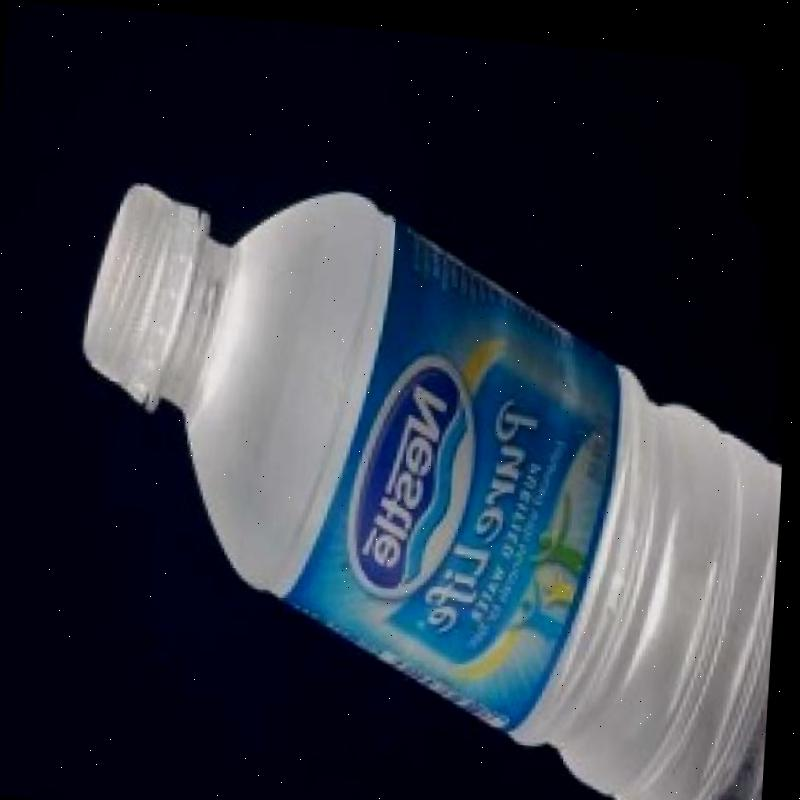botella: (61, 165, 794, 800)
